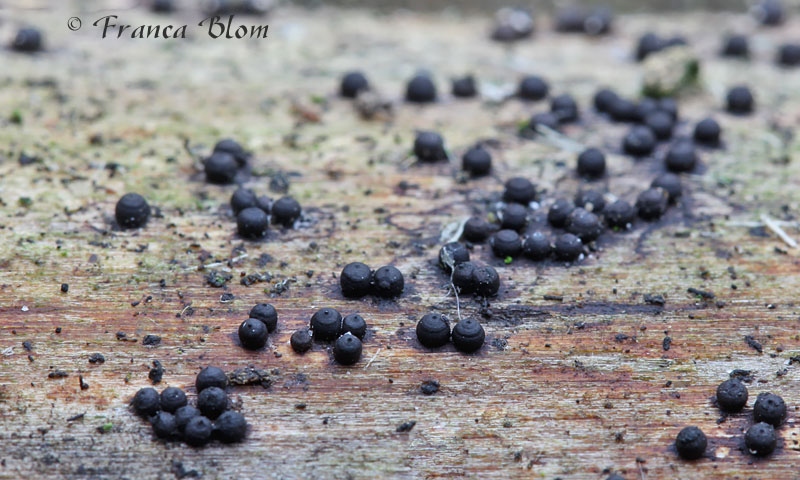pudricion radicular: (73, 69, 795, 467)
